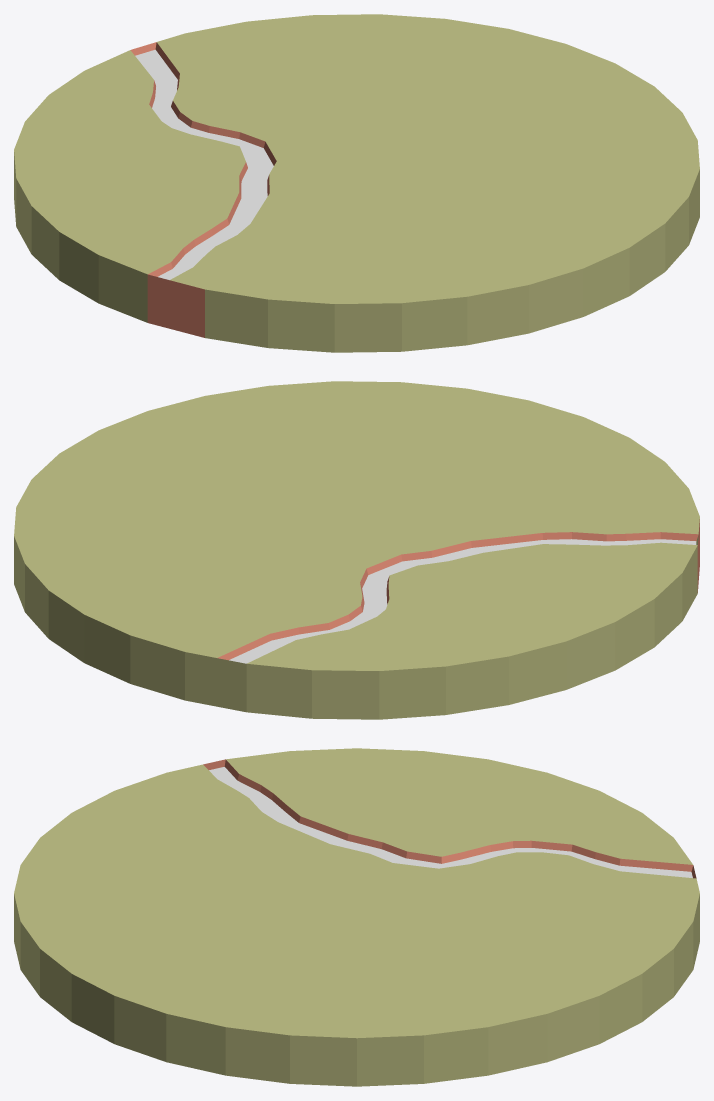
Rendered from dsground.fbx.
3 renders of one model, top to bottom at view 1: azimuth 30°, elevation 25°; view 2: azimuth 150°, elevation 25°; view 3: azimuth 270°, elevation 25°, orthographic.
Visible parts, largest first — view 1: Ground; view 2: Ground; view 3: Ground.
Part boxes in pixels (x1=…): Ground: x1=14, y1=14, x2=699, y2=352; Ground: x1=14, y1=381, x2=699, y2=719; Ground: x1=14, y1=748, x2=699, y2=1086.
Size of the model in its own units: 77.25 by 6.02 by 77.25.
